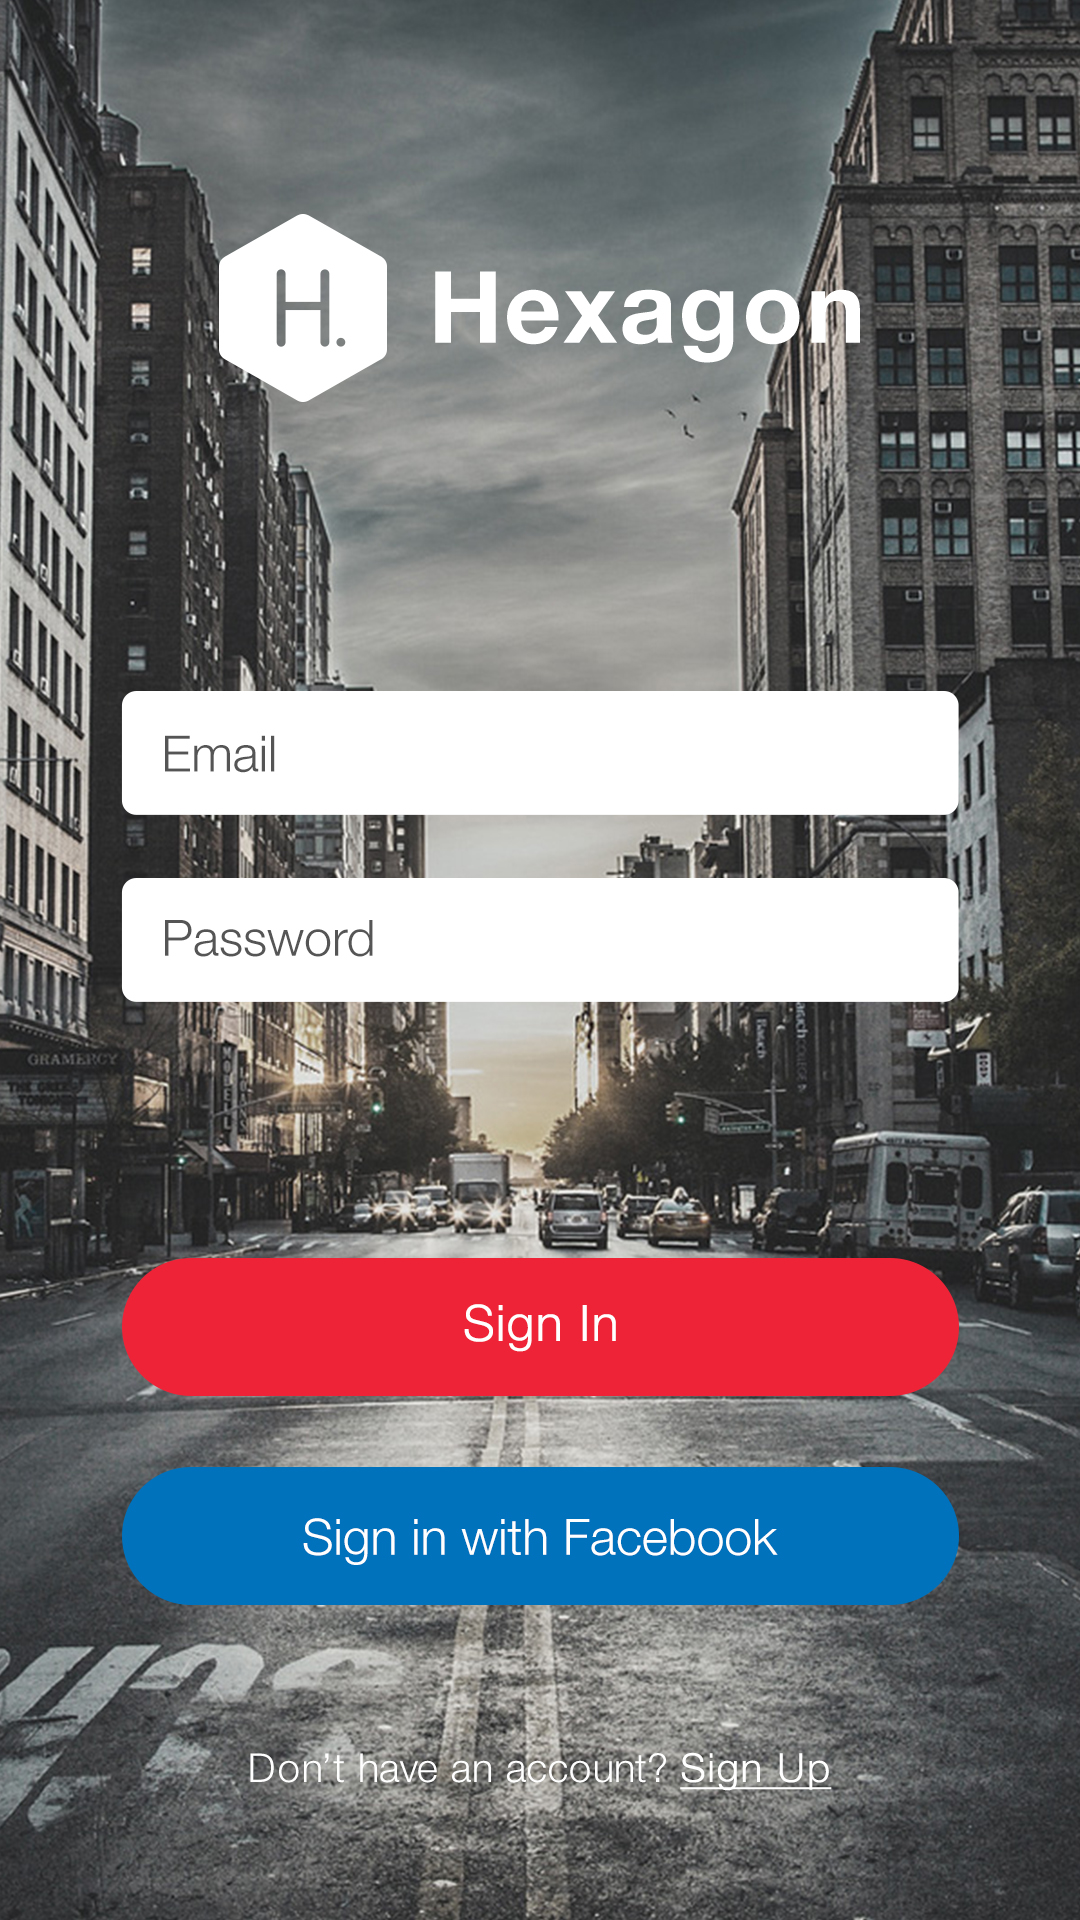BackgroundImage: (1, 1, 1080, 1920)
EditText: (123, 691, 959, 816), (123, 878, 959, 1004)
Image: (219, 214, 388, 404)
Text: (435, 272, 861, 364), (251, 1753, 832, 1791), (165, 920, 375, 957), (165, 735, 276, 774)
TextButton: (123, 1466, 960, 1606), (123, 1258, 960, 1396)
